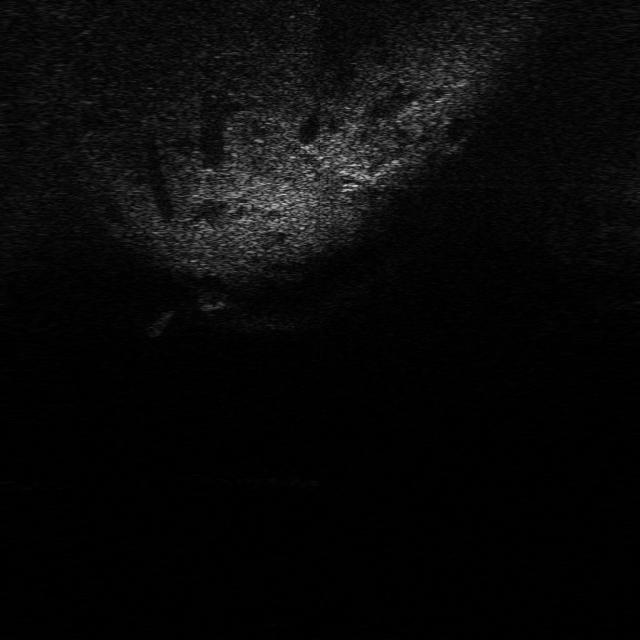cube: (193, 284, 228, 310)
cylinder: (144, 307, 174, 340)
